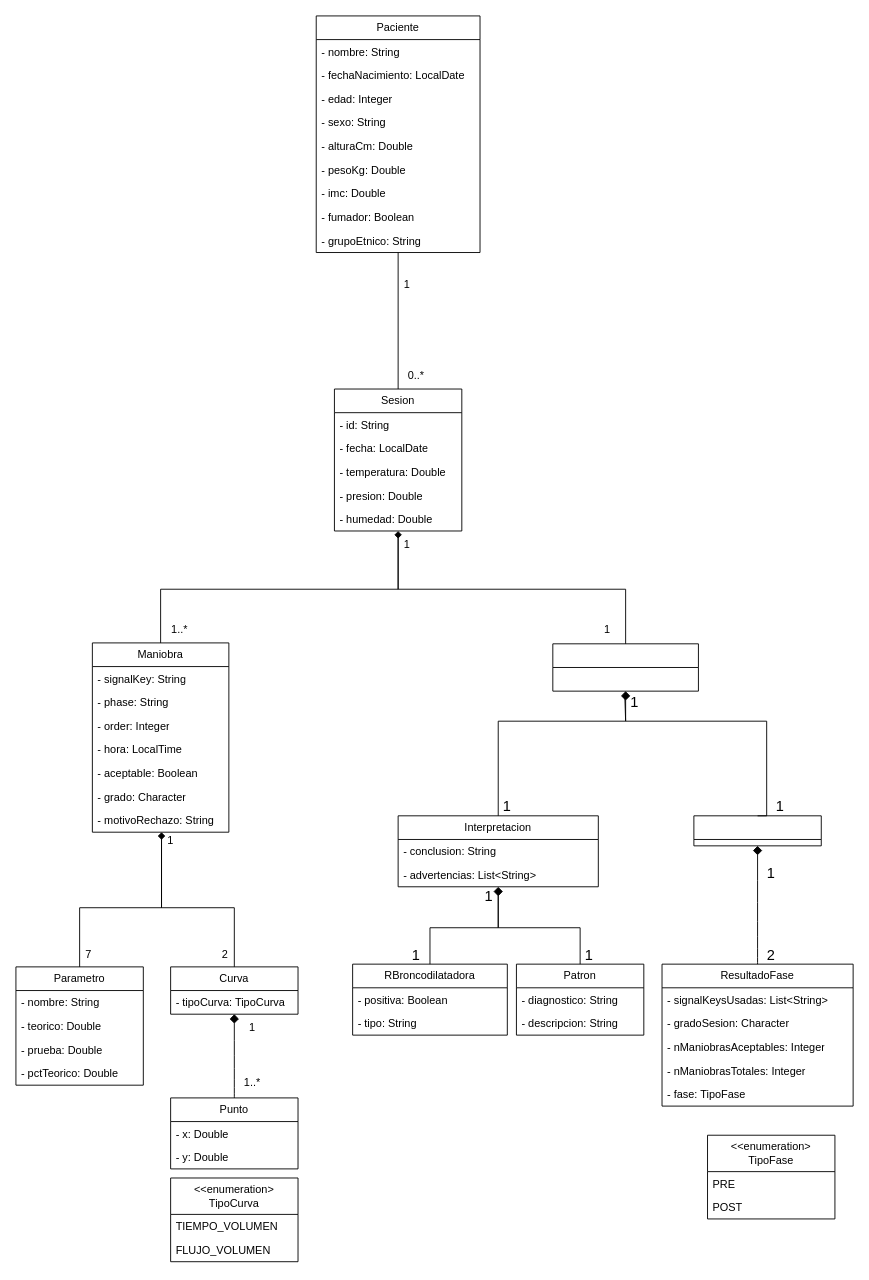
Image size: 869x1280. Some labels were removed from this diagram. The centre of each missing label's shape, as x and y in pixels:
"ResultadoEspirometria" belongs at point (625, 667).
"Seleccion" belongs at point (757, 830).
